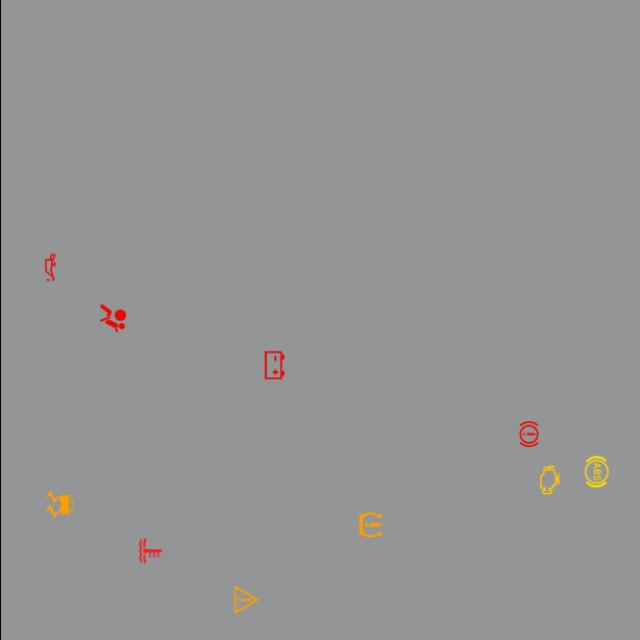Anti Lock Braking System: (578, 454, 612, 488)
Braking System Issue: (511, 417, 545, 451)
Charging System Issue: (256, 348, 290, 382)
Check Engine: (532, 462, 566, 498)
Electronic Stability Problem -ESP-: (42, 486, 76, 522)
Engine Overheating Warning Light: (132, 534, 166, 568)
Low Engine Oil Warning Light: (32, 250, 66, 284)
Low Tire Pressure Warning Light: (352, 508, 387, 542)
Master warning light: (228, 583, 262, 617)
SRS-Airbag: (95, 302, 129, 336)
